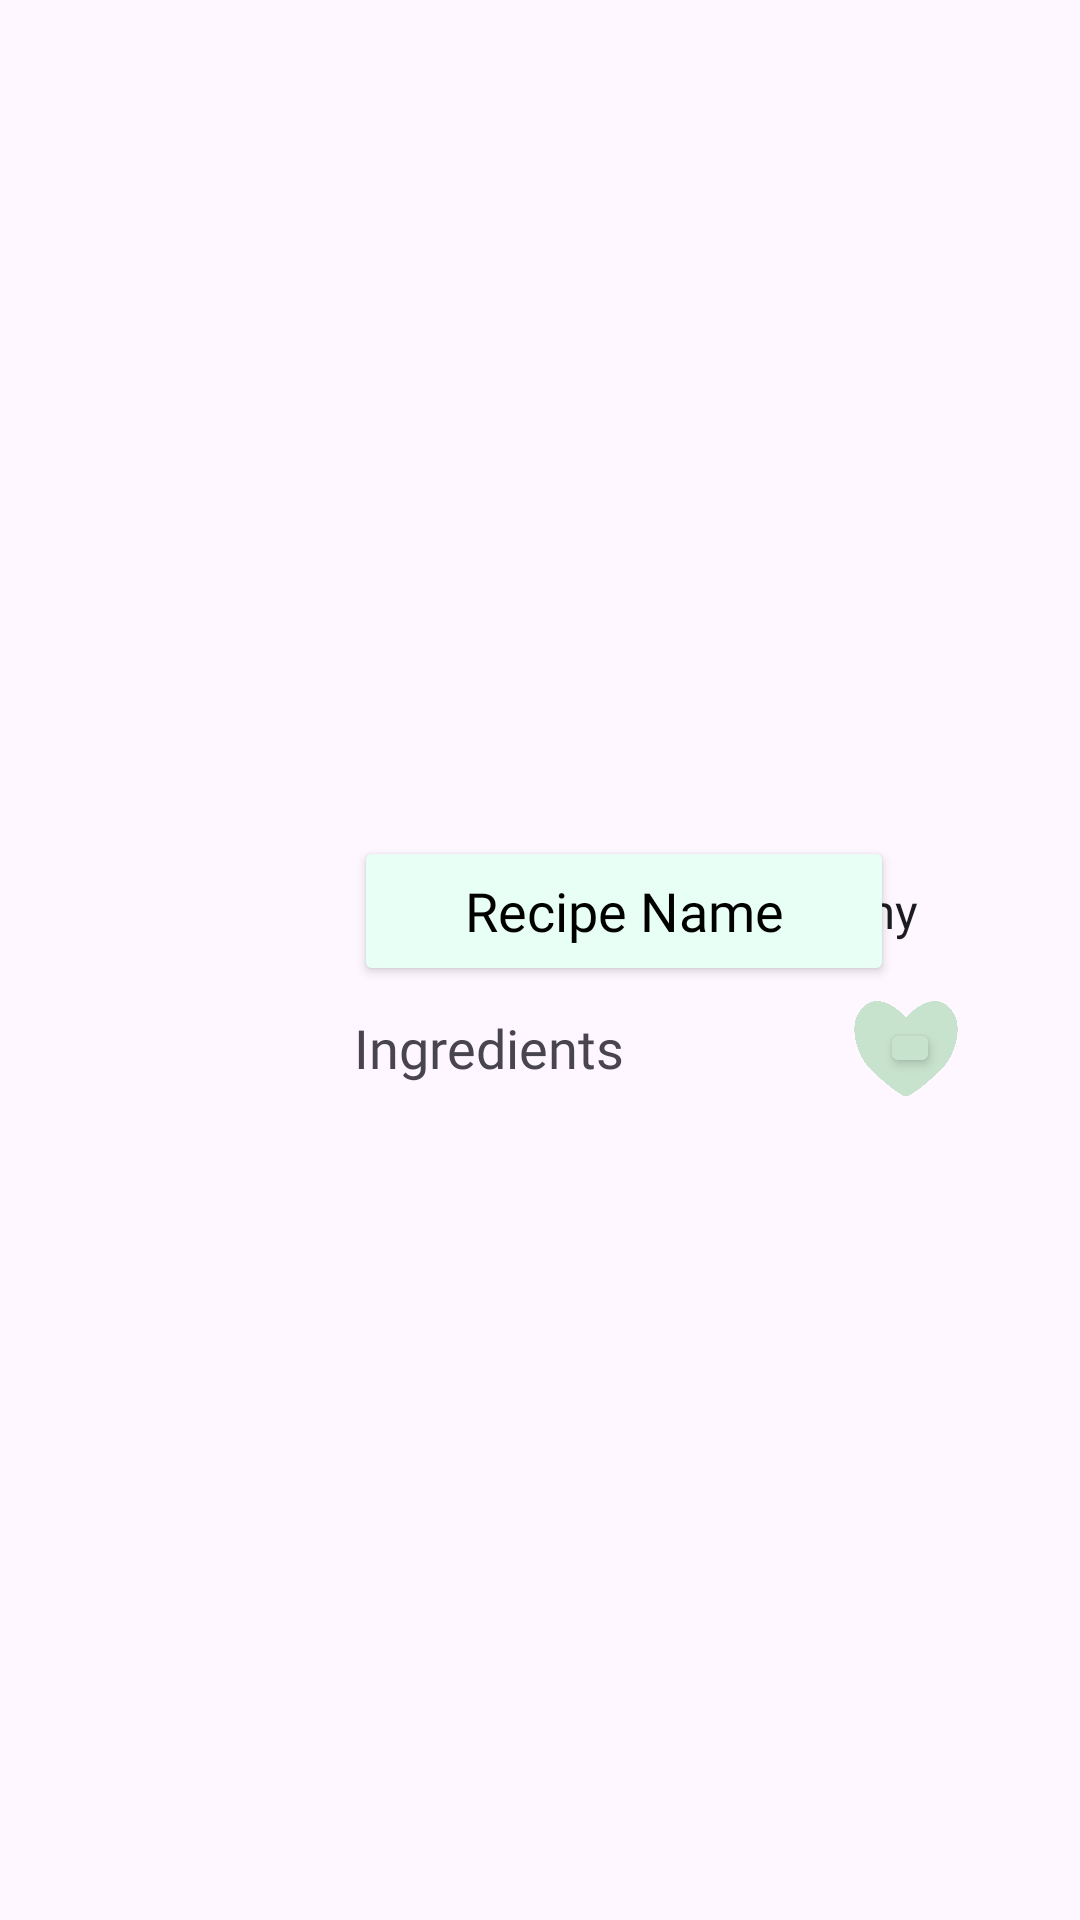

Icons on this 1080 × 1920 Android screen, each with the point to tap as point (x, y):
favbtn: point (906, 1048)
